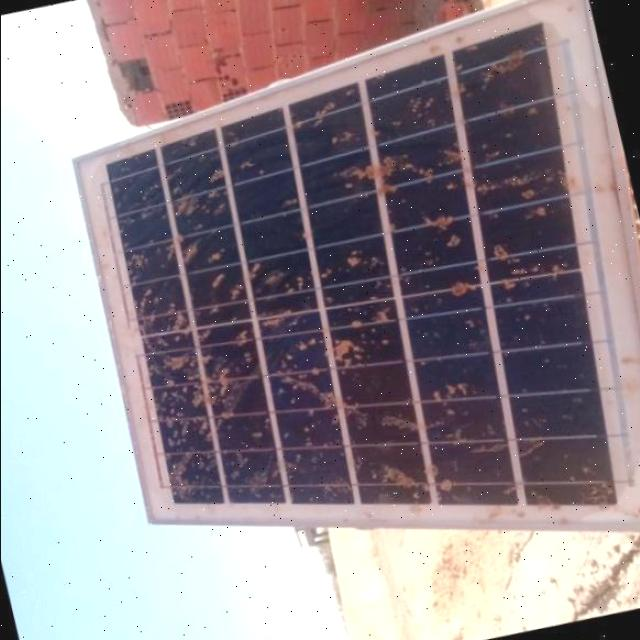Anomaly Solar Panel: (96, 8, 630, 508)
Surface Contaminant: (106, 119, 576, 503), (367, 456, 479, 500), (275, 74, 360, 128), (489, 234, 572, 285), (474, 40, 527, 89), (568, 451, 617, 498), (384, 86, 438, 126), (497, 472, 560, 505), (493, 96, 539, 113), (447, 271, 482, 293), (324, 122, 360, 139)
